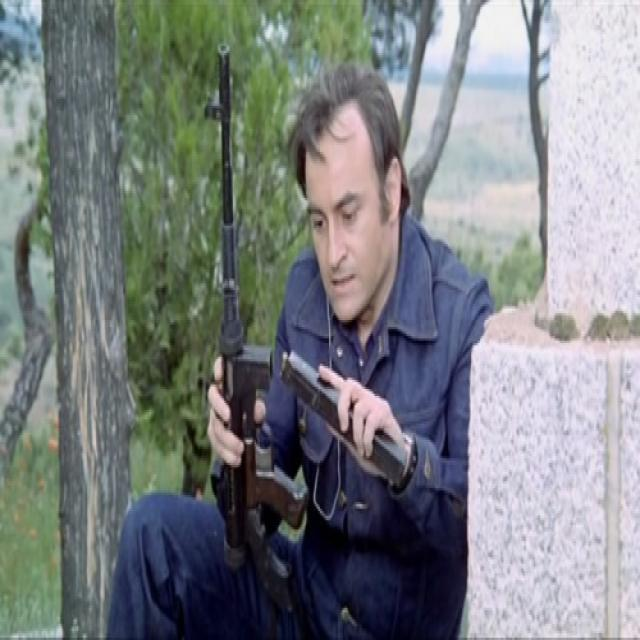rifle: (208, 26, 313, 599)
